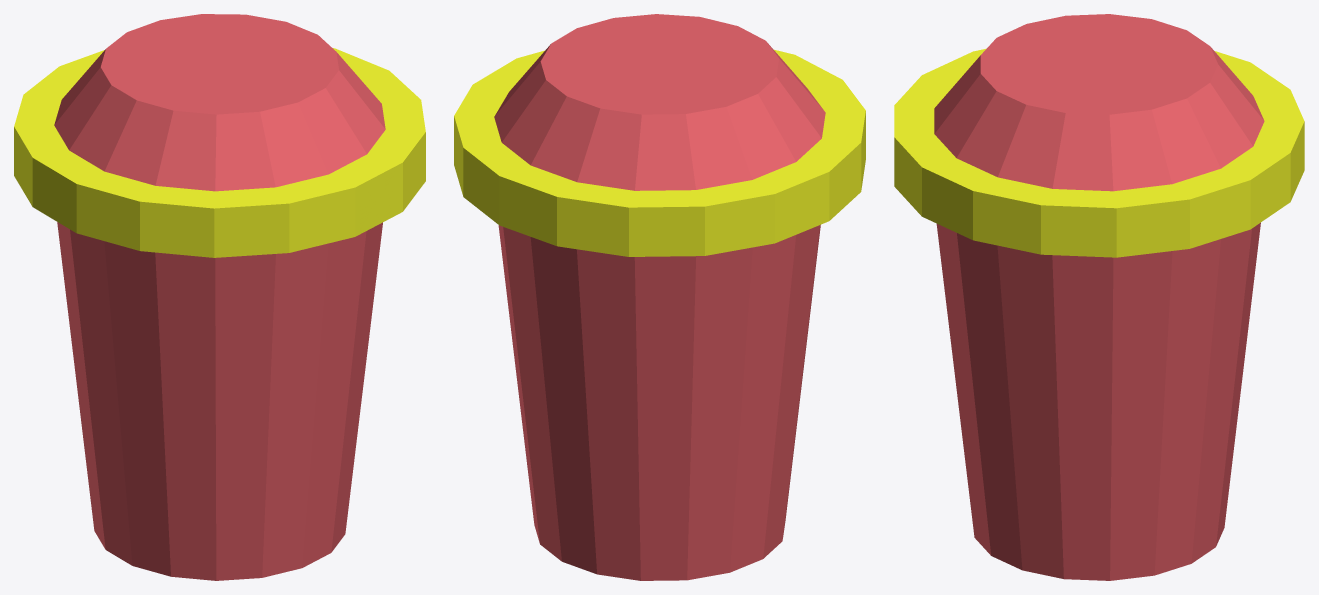
File: trashcan.fbx
3 renders of one model, left to right at view 1: azimuth 30°, elevation 25°; view 2: azimuth 150°, elevation 25°; view 3: azimuth 270°, elevation 25°, orthographic.
Parts seen in each view (by area): view 1: Cylinder.018; view 2: Cylinder.018; view 3: Cylinder.018.
Boxes of the visible parts, bbox=[...] form: Cylinder.018: bbox=[14, 14, 425, 580]; Cylinder.018: bbox=[454, 14, 865, 580]; Cylinder.018: bbox=[894, 14, 1304, 580].
Size of the model in its own units: 376 by 467 by 375.
